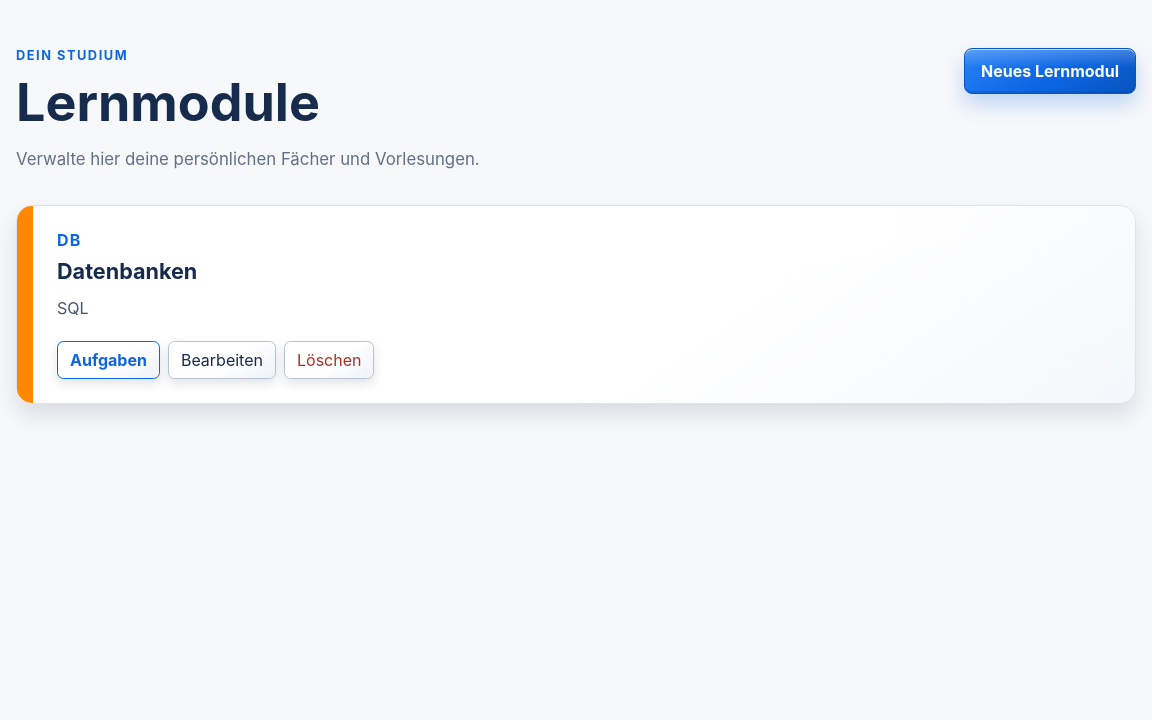
ModulesView › updates a module and replaces it in the list
Click the button with class "edit-module-button" at (222, 360), box [168,341,276,379]
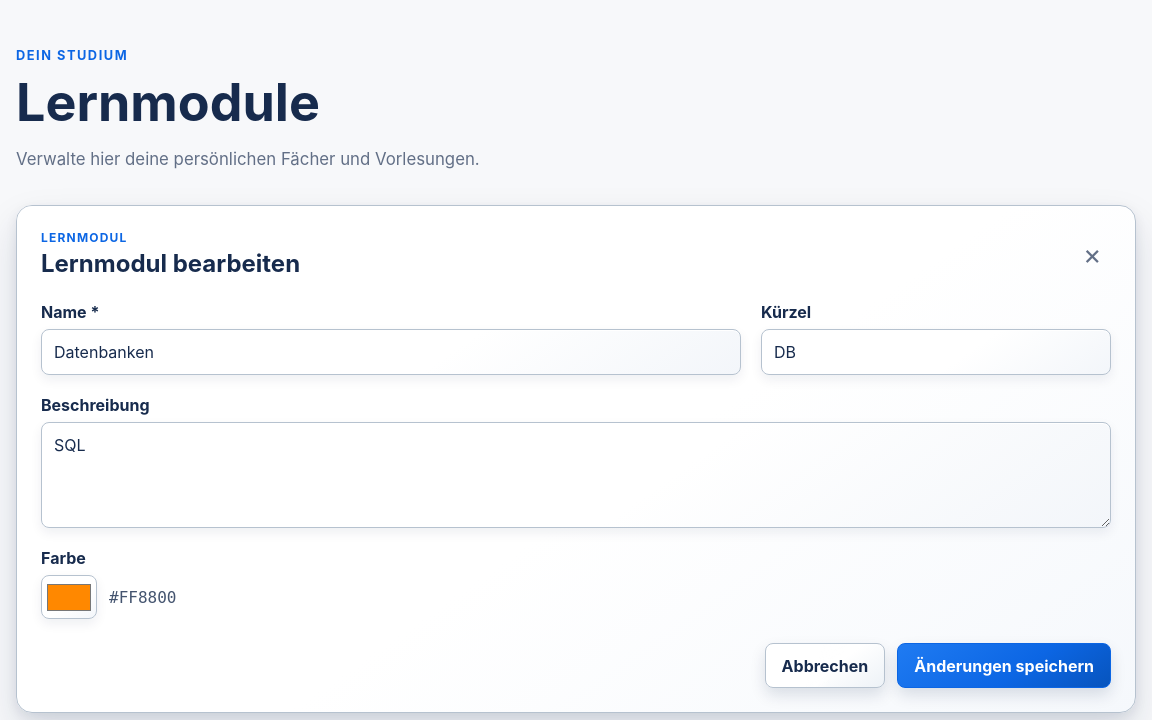
Result: the field with id "module-name" holds "Datenbanken"
Replace the text in the field with id "module-name" with "Datenbanken 2" at (391, 352), box [41,329,741,375]
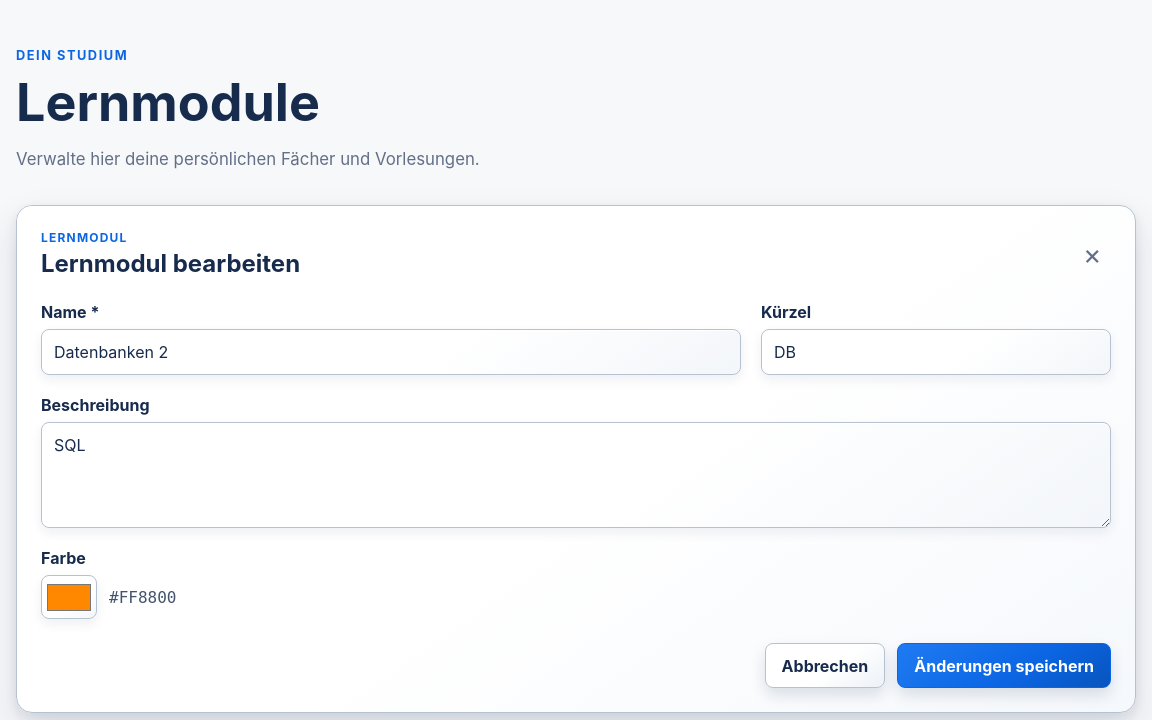
Replace the text in the field with id "module-code" with "DB2" at (936, 352), box [761,329,1111,375]
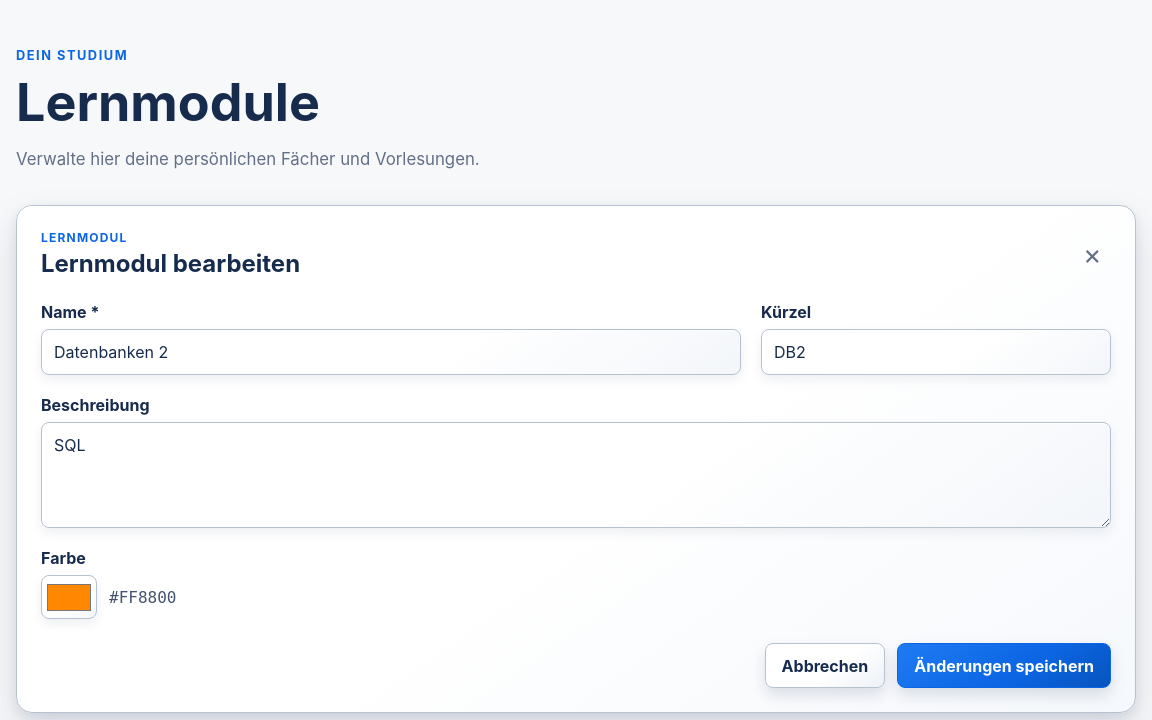
Replace the text in the text box with id "module-description" with "SQL und PostgreSQL" at (576, 475), box [41,422,1111,528]
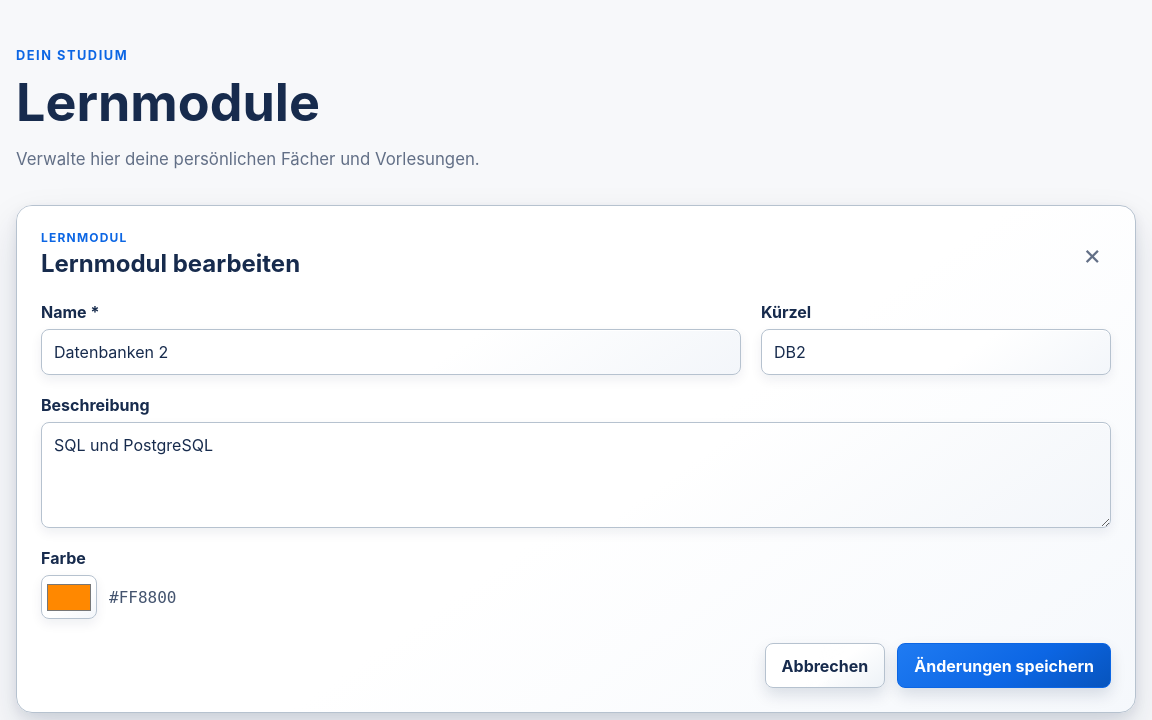
Type "#3366ff" into the colour field with id "module-color" at (69, 597), box [41,575,97,619]
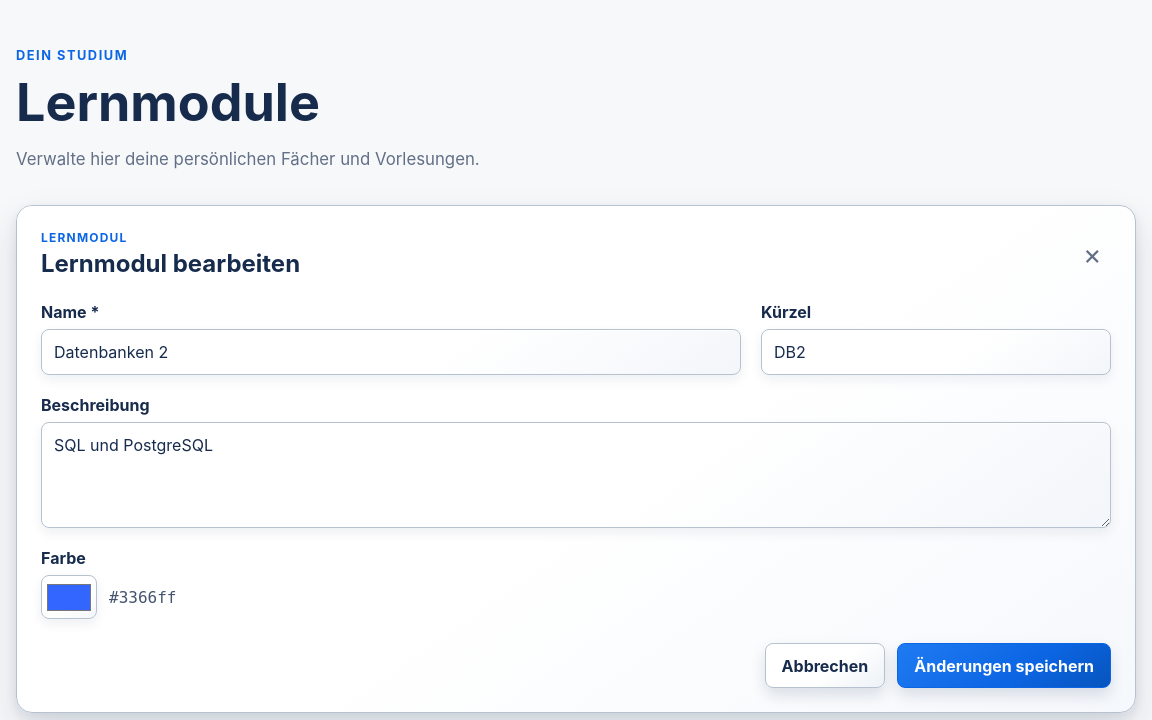
Submit the form with class "module-form"
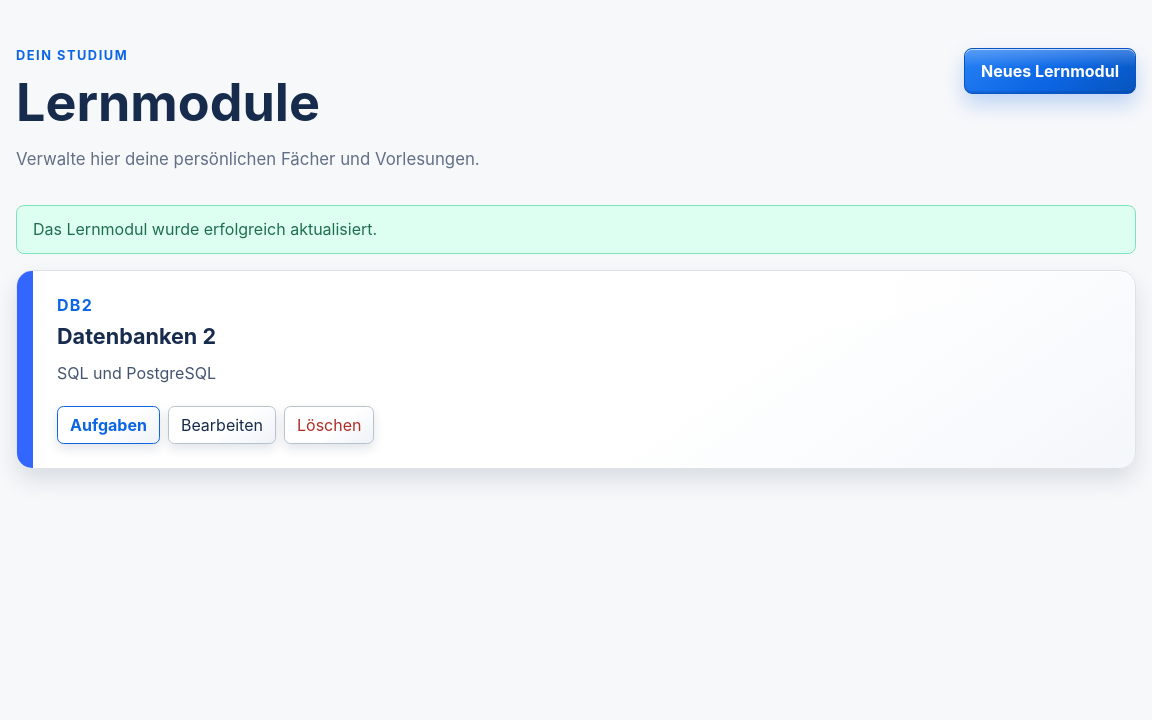
Result: the text "Datenbanken 2" is shown at [57,323,216,349]
Result: the text "erfolgreich aktualisiert" is shown at [33,220,377,240]
